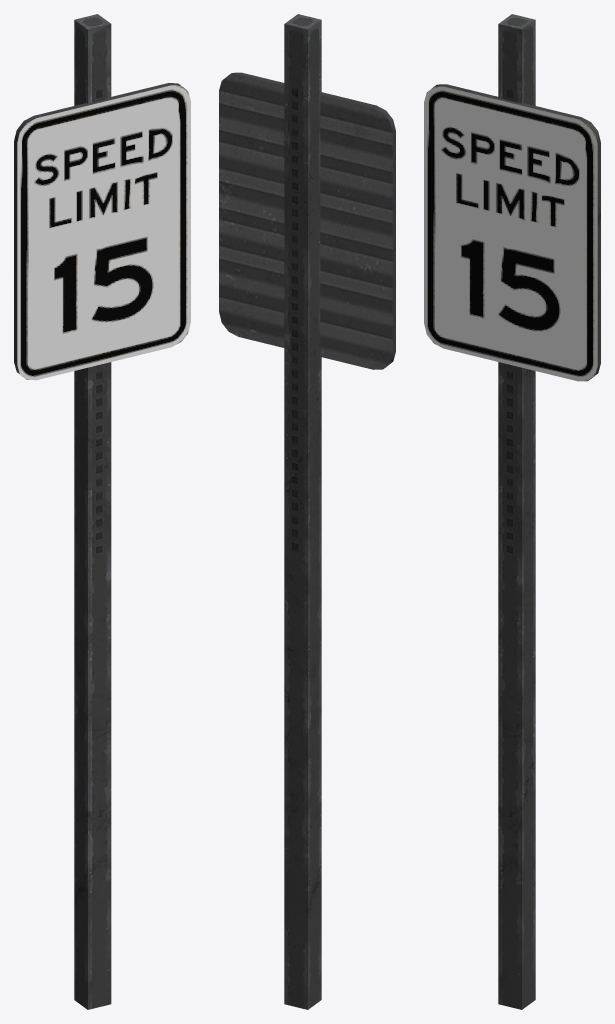
Rendered from Road_Sign_07.fbx.
3 renders of one model, left to right at view 1: azimuth 30°, elevation 25°; view 2: azimuth 150°, elevation 25°; view 3: azimuth 330°, elevation 25°, orthographic.
Parts seen in each view (by area): view 1: Road_Sign_07; view 2: Road_Sign_07; view 3: Road_Sign_07.
Boxes of the visible parts, x1,y1,x2,y2 form: Road_Sign_07: [14, 14, 190, 1009]; Road_Sign_07: [219, 14, 395, 1009]; Road_Sign_07: [424, 14, 600, 1009].
Bounding box in the file's own units: 37.98 × 205 × 5.85.
